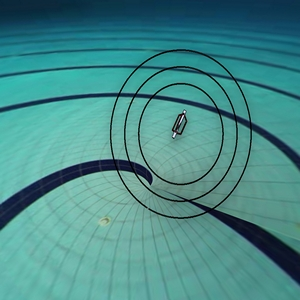circle: (97, 41, 281, 222)
submarine: (159, 105, 201, 145)
